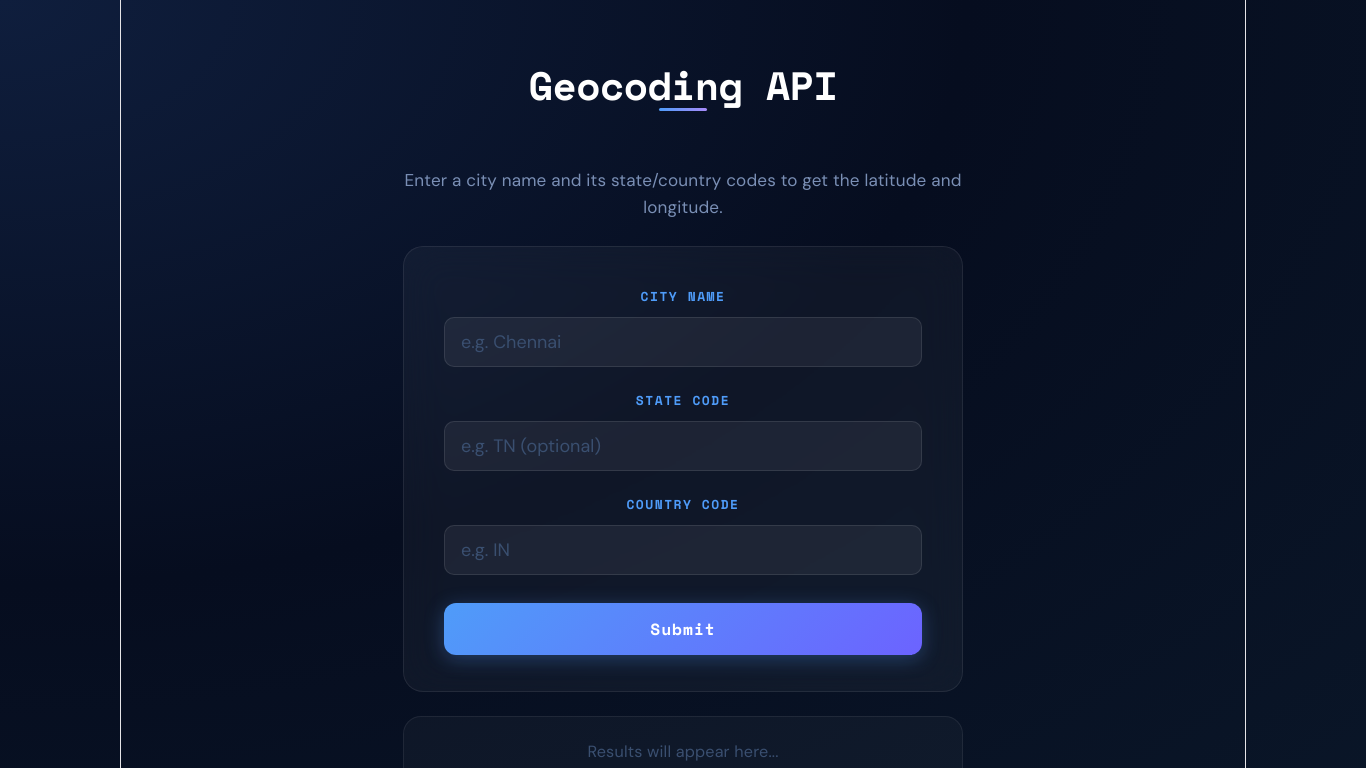
Test case: GeoCod Component › shows results when geocoding succeeds
The image size is (1366, 768).
Type and submit
Type "Chennai" into the field with placeholder "e.g. Chennai" at (683, 342), box [444, 317, 922, 367]
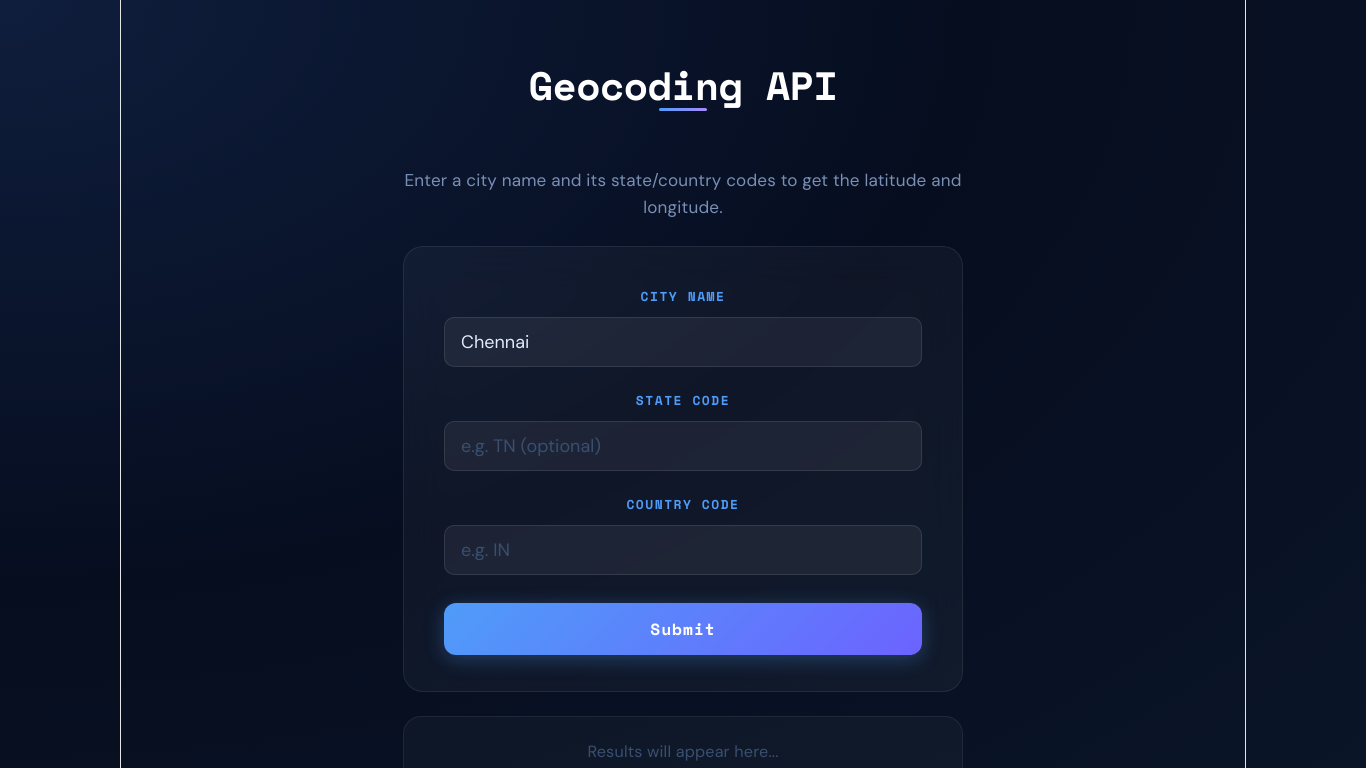
Type "Tamil Nadu" into the field with placeholder "e.g. TN (optional)" at (683, 446), box [444, 421, 922, 471]
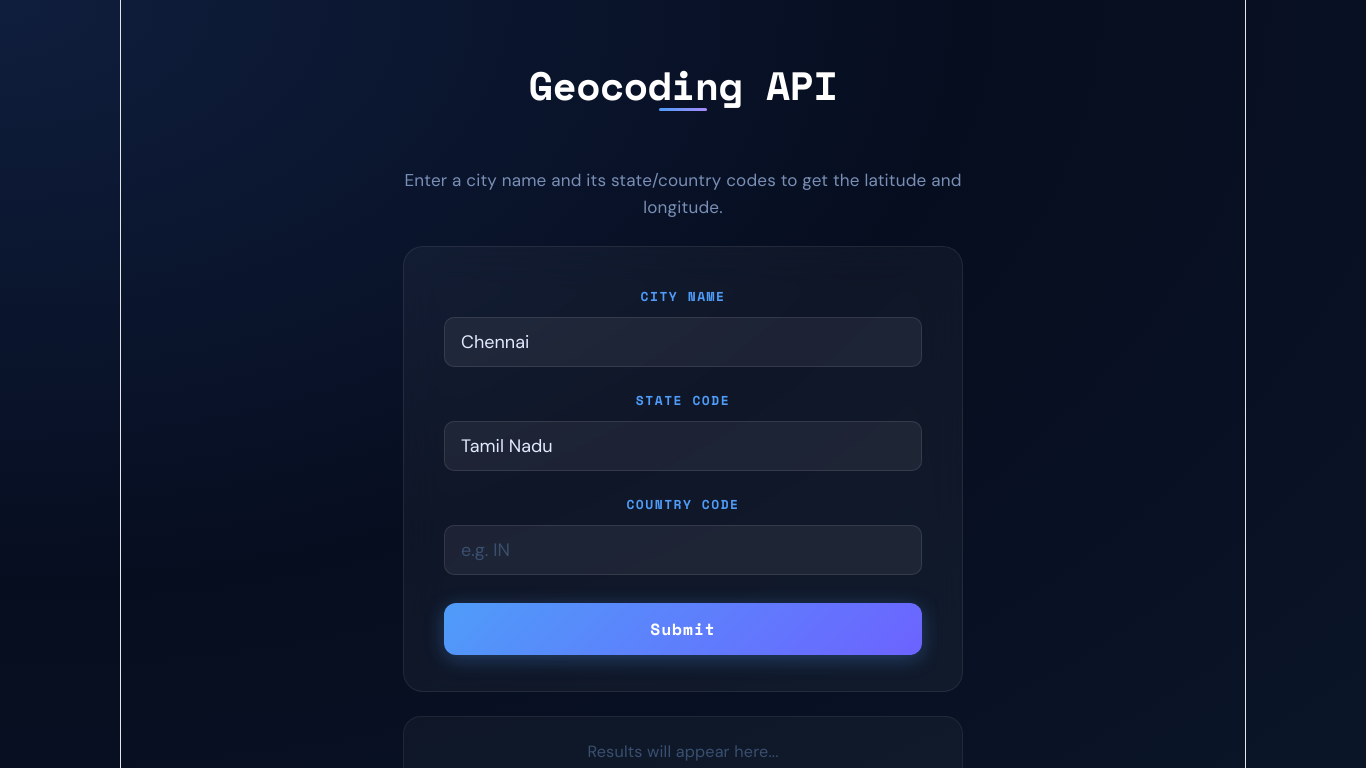
Type "IN" into the field with placeholder "e.g. IN" at (683, 550), box [444, 525, 922, 575]
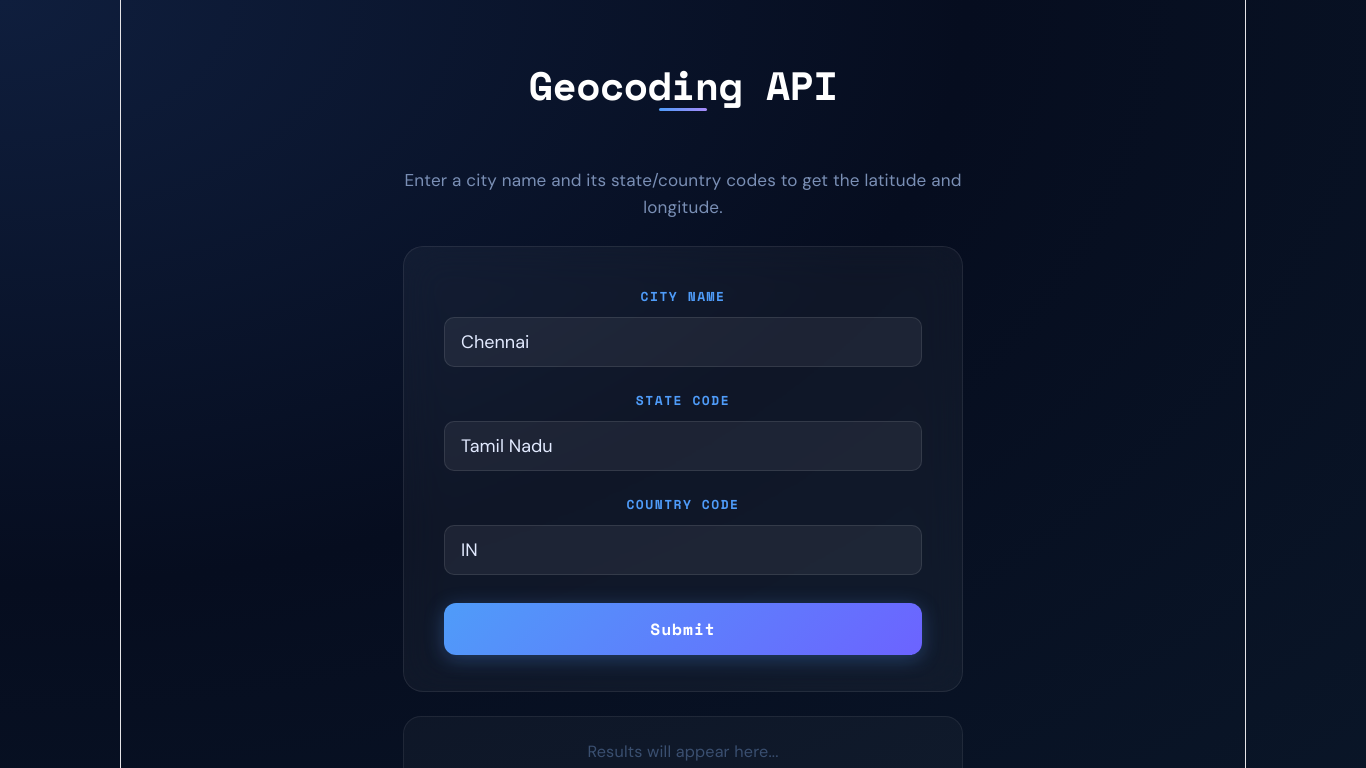
Click the button showing "Submit" at (683, 629), box [444, 603, 922, 655]
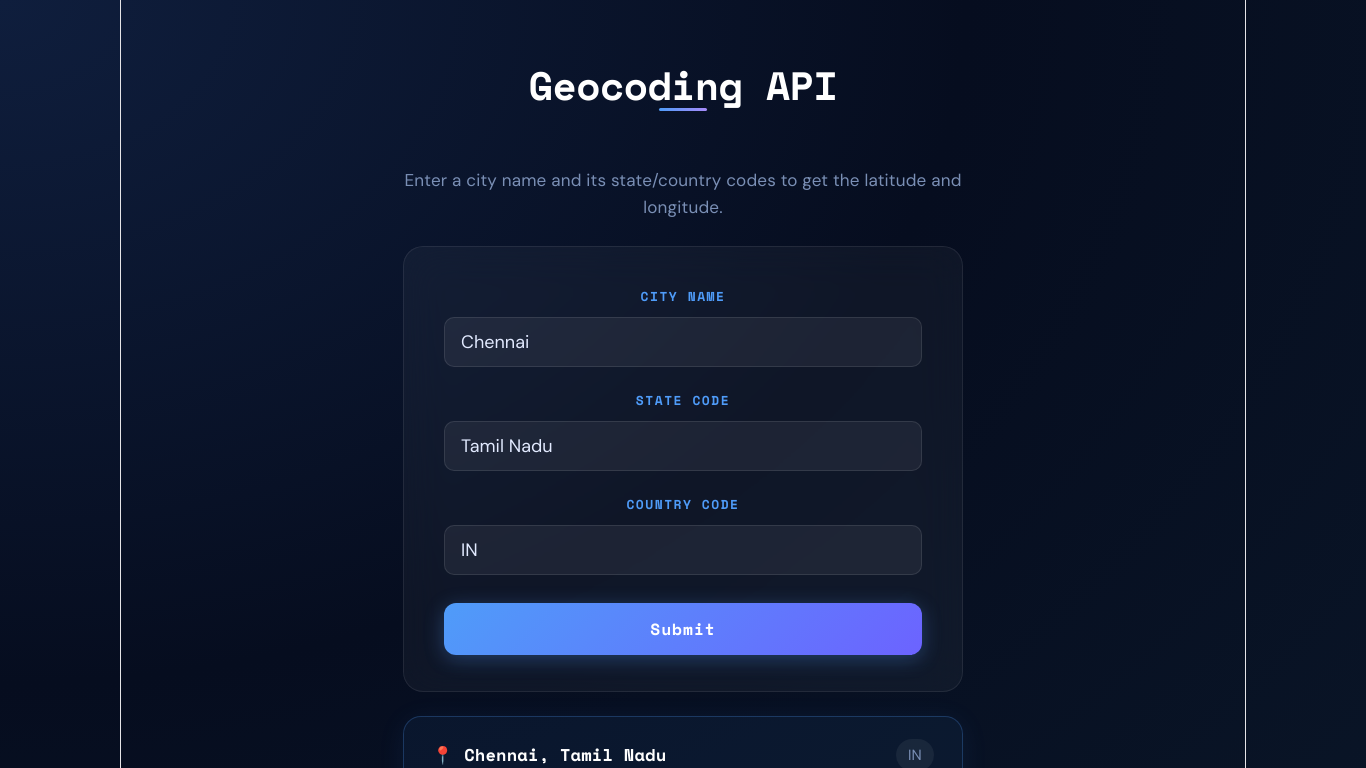
Check: the text "Chennai" is shown, box [464, 742, 539, 767]
